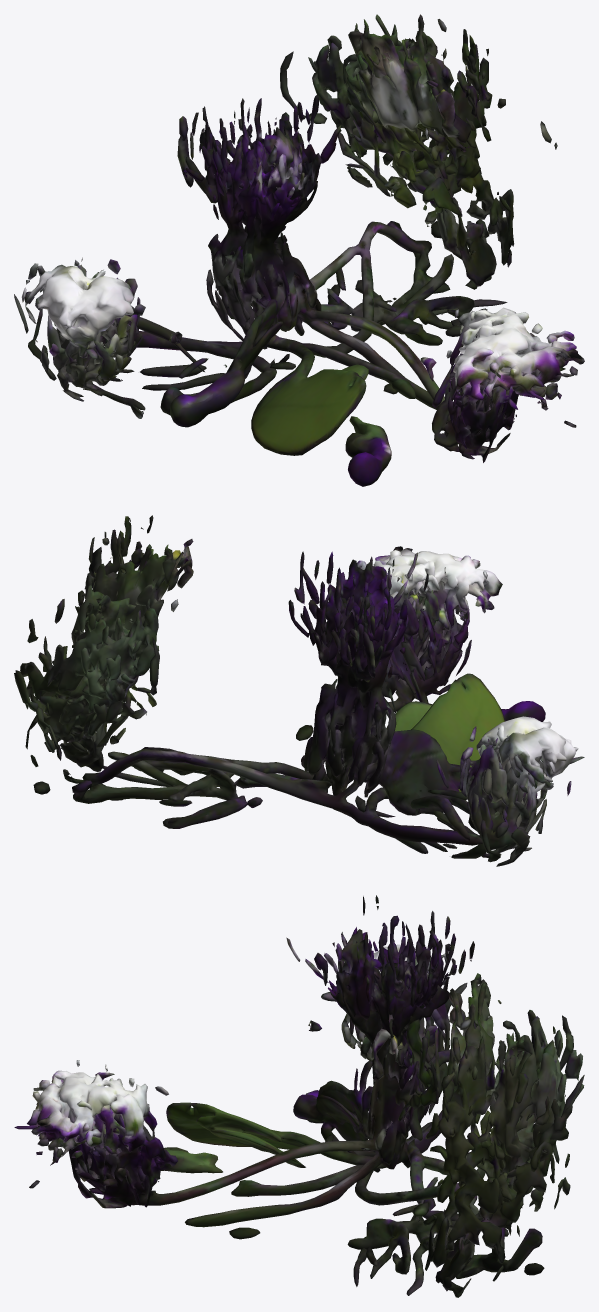
File: climber0034.gltf
The picture shows the model from 3 angles, top to bottom: view 1: azimuth 30°, elevation 25°; view 2: azimuth 150°, elevation 25°; view 3: azimuth 270°, elevation 25°; orthographic projection. The views are drawn at different scales.
Parts seen in each view (by area): view 1: Mesh_0.004; view 2: Mesh_0.004; view 3: Mesh_0.004.
Boxes of the visible parts, box(x1,y1,x2,y2) form: Mesh_0.004: box(14, 14, 584, 486); Mesh_0.004: box(14, 515, 584, 866); Mesh_0.004: box(14, 895, 584, 1297).
Size of the model in its own units: 1.99 by 1.07 by 2.
1 material, 1 textured.
